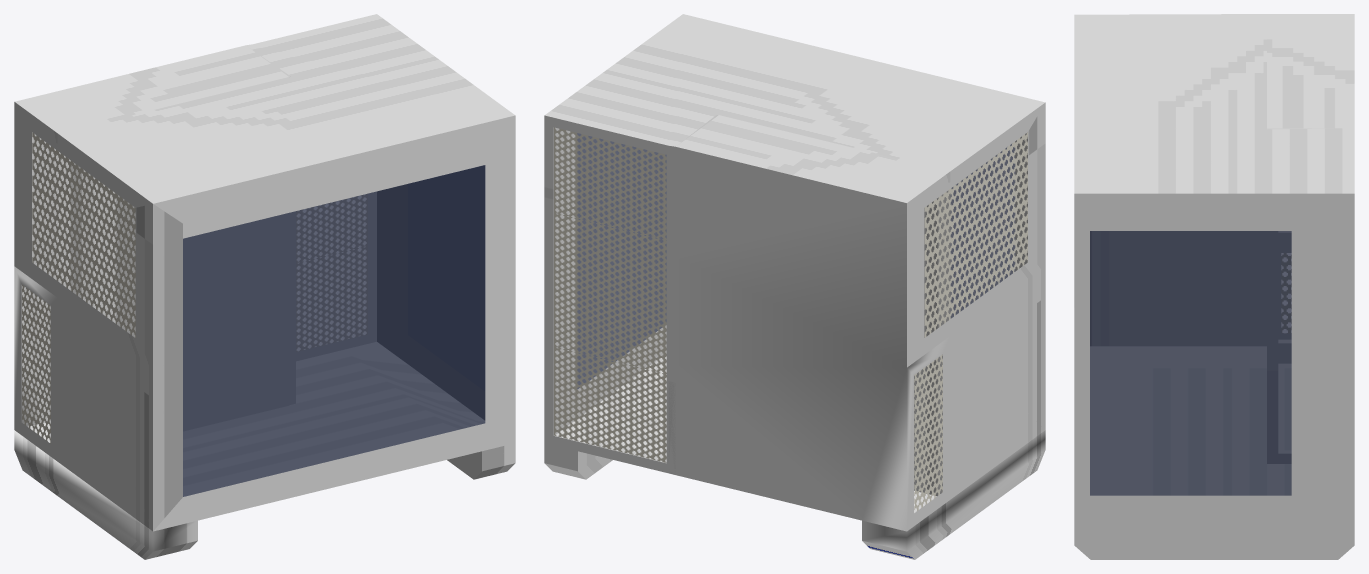
The model's file is Gab_P.fbx.
3 views of the same model, side by side, from view 1: azimuth 30°, elevation 25°; view 2: azimuth 150°, elevation 25°; view 3: azimuth 270°, elevation 25° (orthographic).
Parts seen in each view (by area): view 1: GabPequeno, VidroPequeno, Gab.Fonte.P, GradePequeno; view 2: GabPequeno, GradePequeno, VidroPequeno, Gab.Fonte.P; view 3: GabPequeno, VidroPequeno, GradePequeno.
Part boxes in pixels (x1,y1,x2,y2): GabPequeno: [14, 14, 515, 559]; VidroPequeno: [183, 165, 485, 496]; Gab.Fonte.P: [58, 152, 288, 430]; GradePequeno: [22, 132, 367, 443]; GabPequeno: [544, 14, 1045, 559]; GradePequeno: [554, 127, 1027, 510]; VidroPequeno: [577, 133, 1015, 389]; Gab.Fonte.P: [914, 190, 950, 496]; GabPequeno: [1074, 14, 1354, 559]; VidroPequeno: [1090, 231, 1291, 495]; GradePequeno: [1281, 253, 1291, 332].
Bounding box in the file's own units: 1735 × 1659 × 1149.
